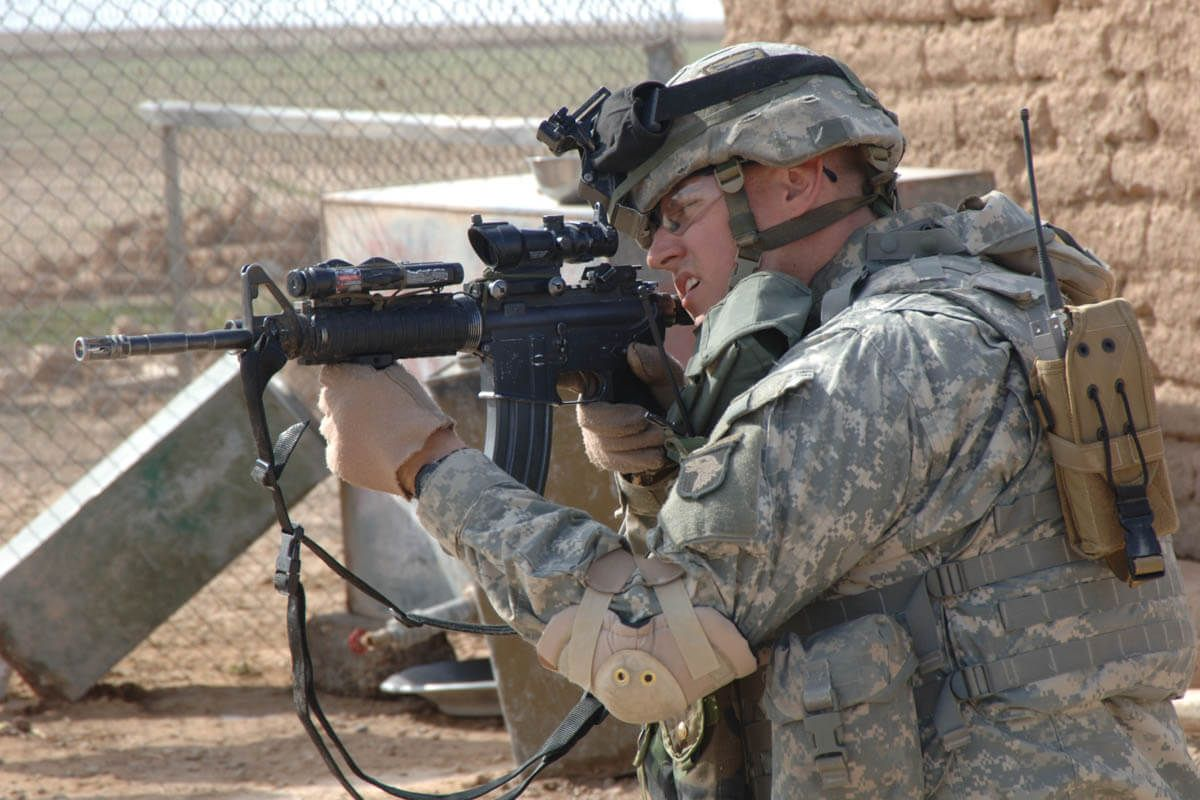m4_carbine: (466, 276, 683, 545)
